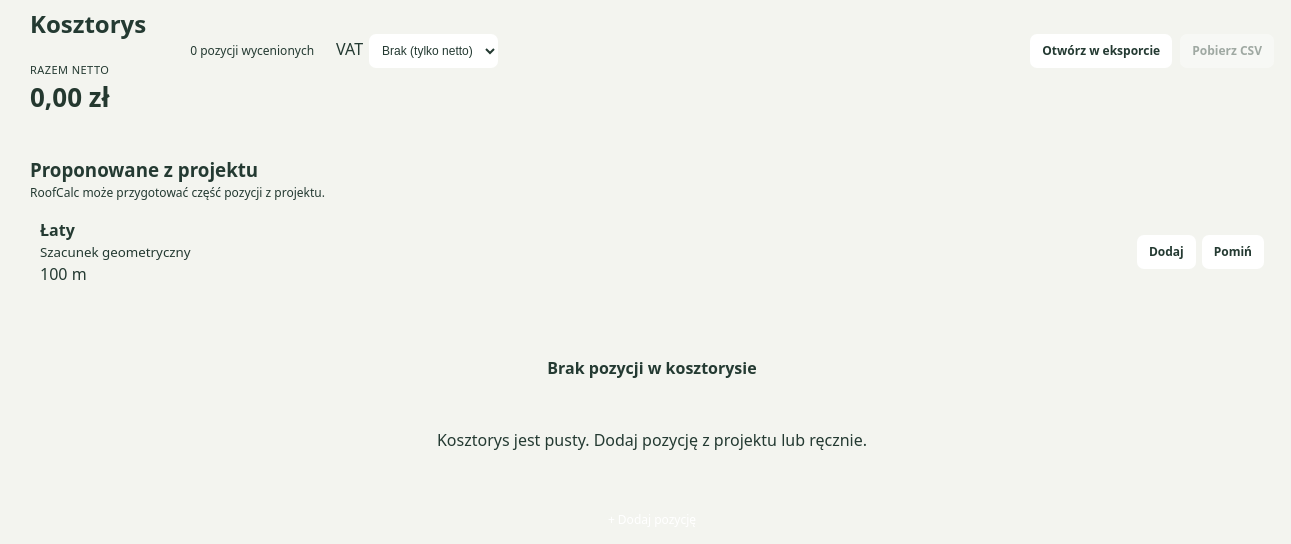
Scenario: CostWorkspace › adds a battens suggestion as a priceable geometric-estimate line
Click the button "Dodaj" at (1166, 252), box [1137,235,1196,269]
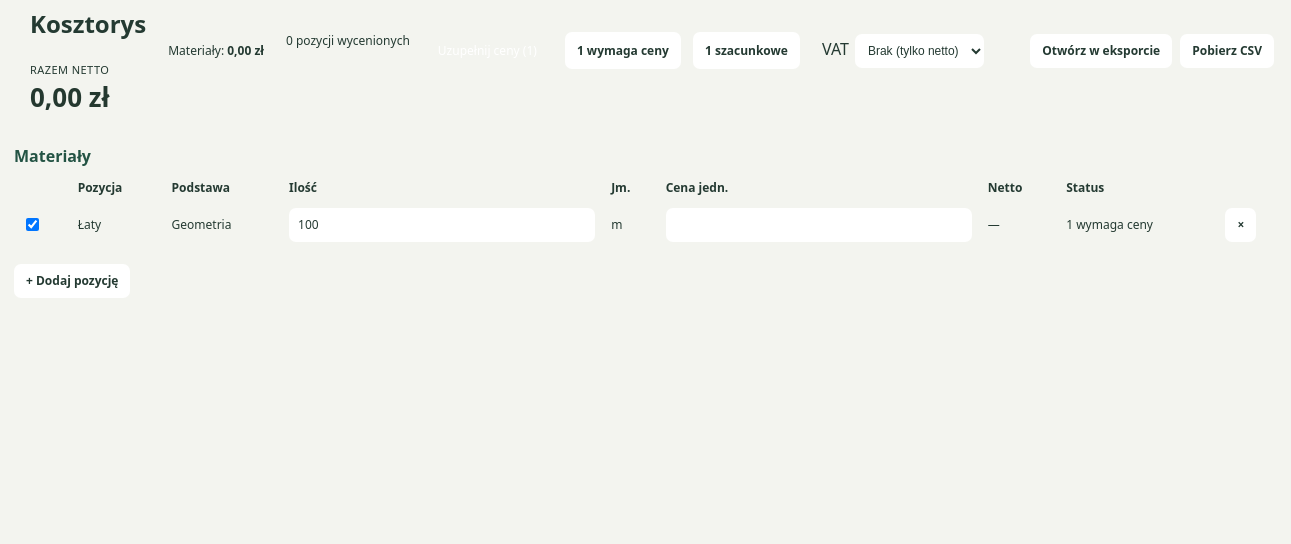
expect the text "Łaty" is shown: met, box [70,202,164,248]
expect the text "Geometria" is shown: met, box [164,202,281,248]
expect the heading "Proponowane z projektu" is gone: met
